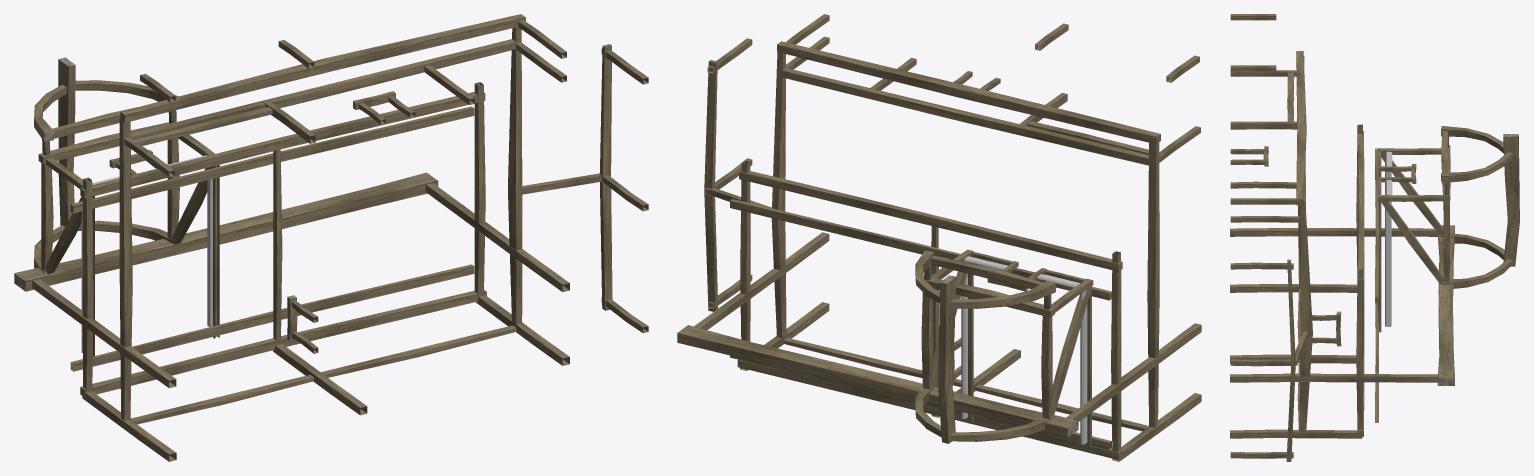
File: Pirate_Bar_Structure_A.fbx
3 renders of one model, left to right at view 1: azimuth 30°, elevation 25°; view 2: azimuth 150°, elevation 25°; view 3: azimuth 270°, elevation 25°, orthographic. The views are drawn at different scales.
Visible parts, largest first — view 1: Pirate_Bar_Structure_A; view 2: Pirate_Bar_Structure_A; view 3: Pirate_Bar_Structure_A.
Part boxes in pixels (bbox=[...]): Pirate_Bar_Structure_A: bbox=[14, 14, 648, 461]; Pirate_Bar_Structure_A: bbox=[677, 14, 1201, 461]; Pirate_Bar_Structure_A: bbox=[1230, 14, 1519, 461].
Size of the model in its own units: 25.16 by 17.93 by 17.01.
